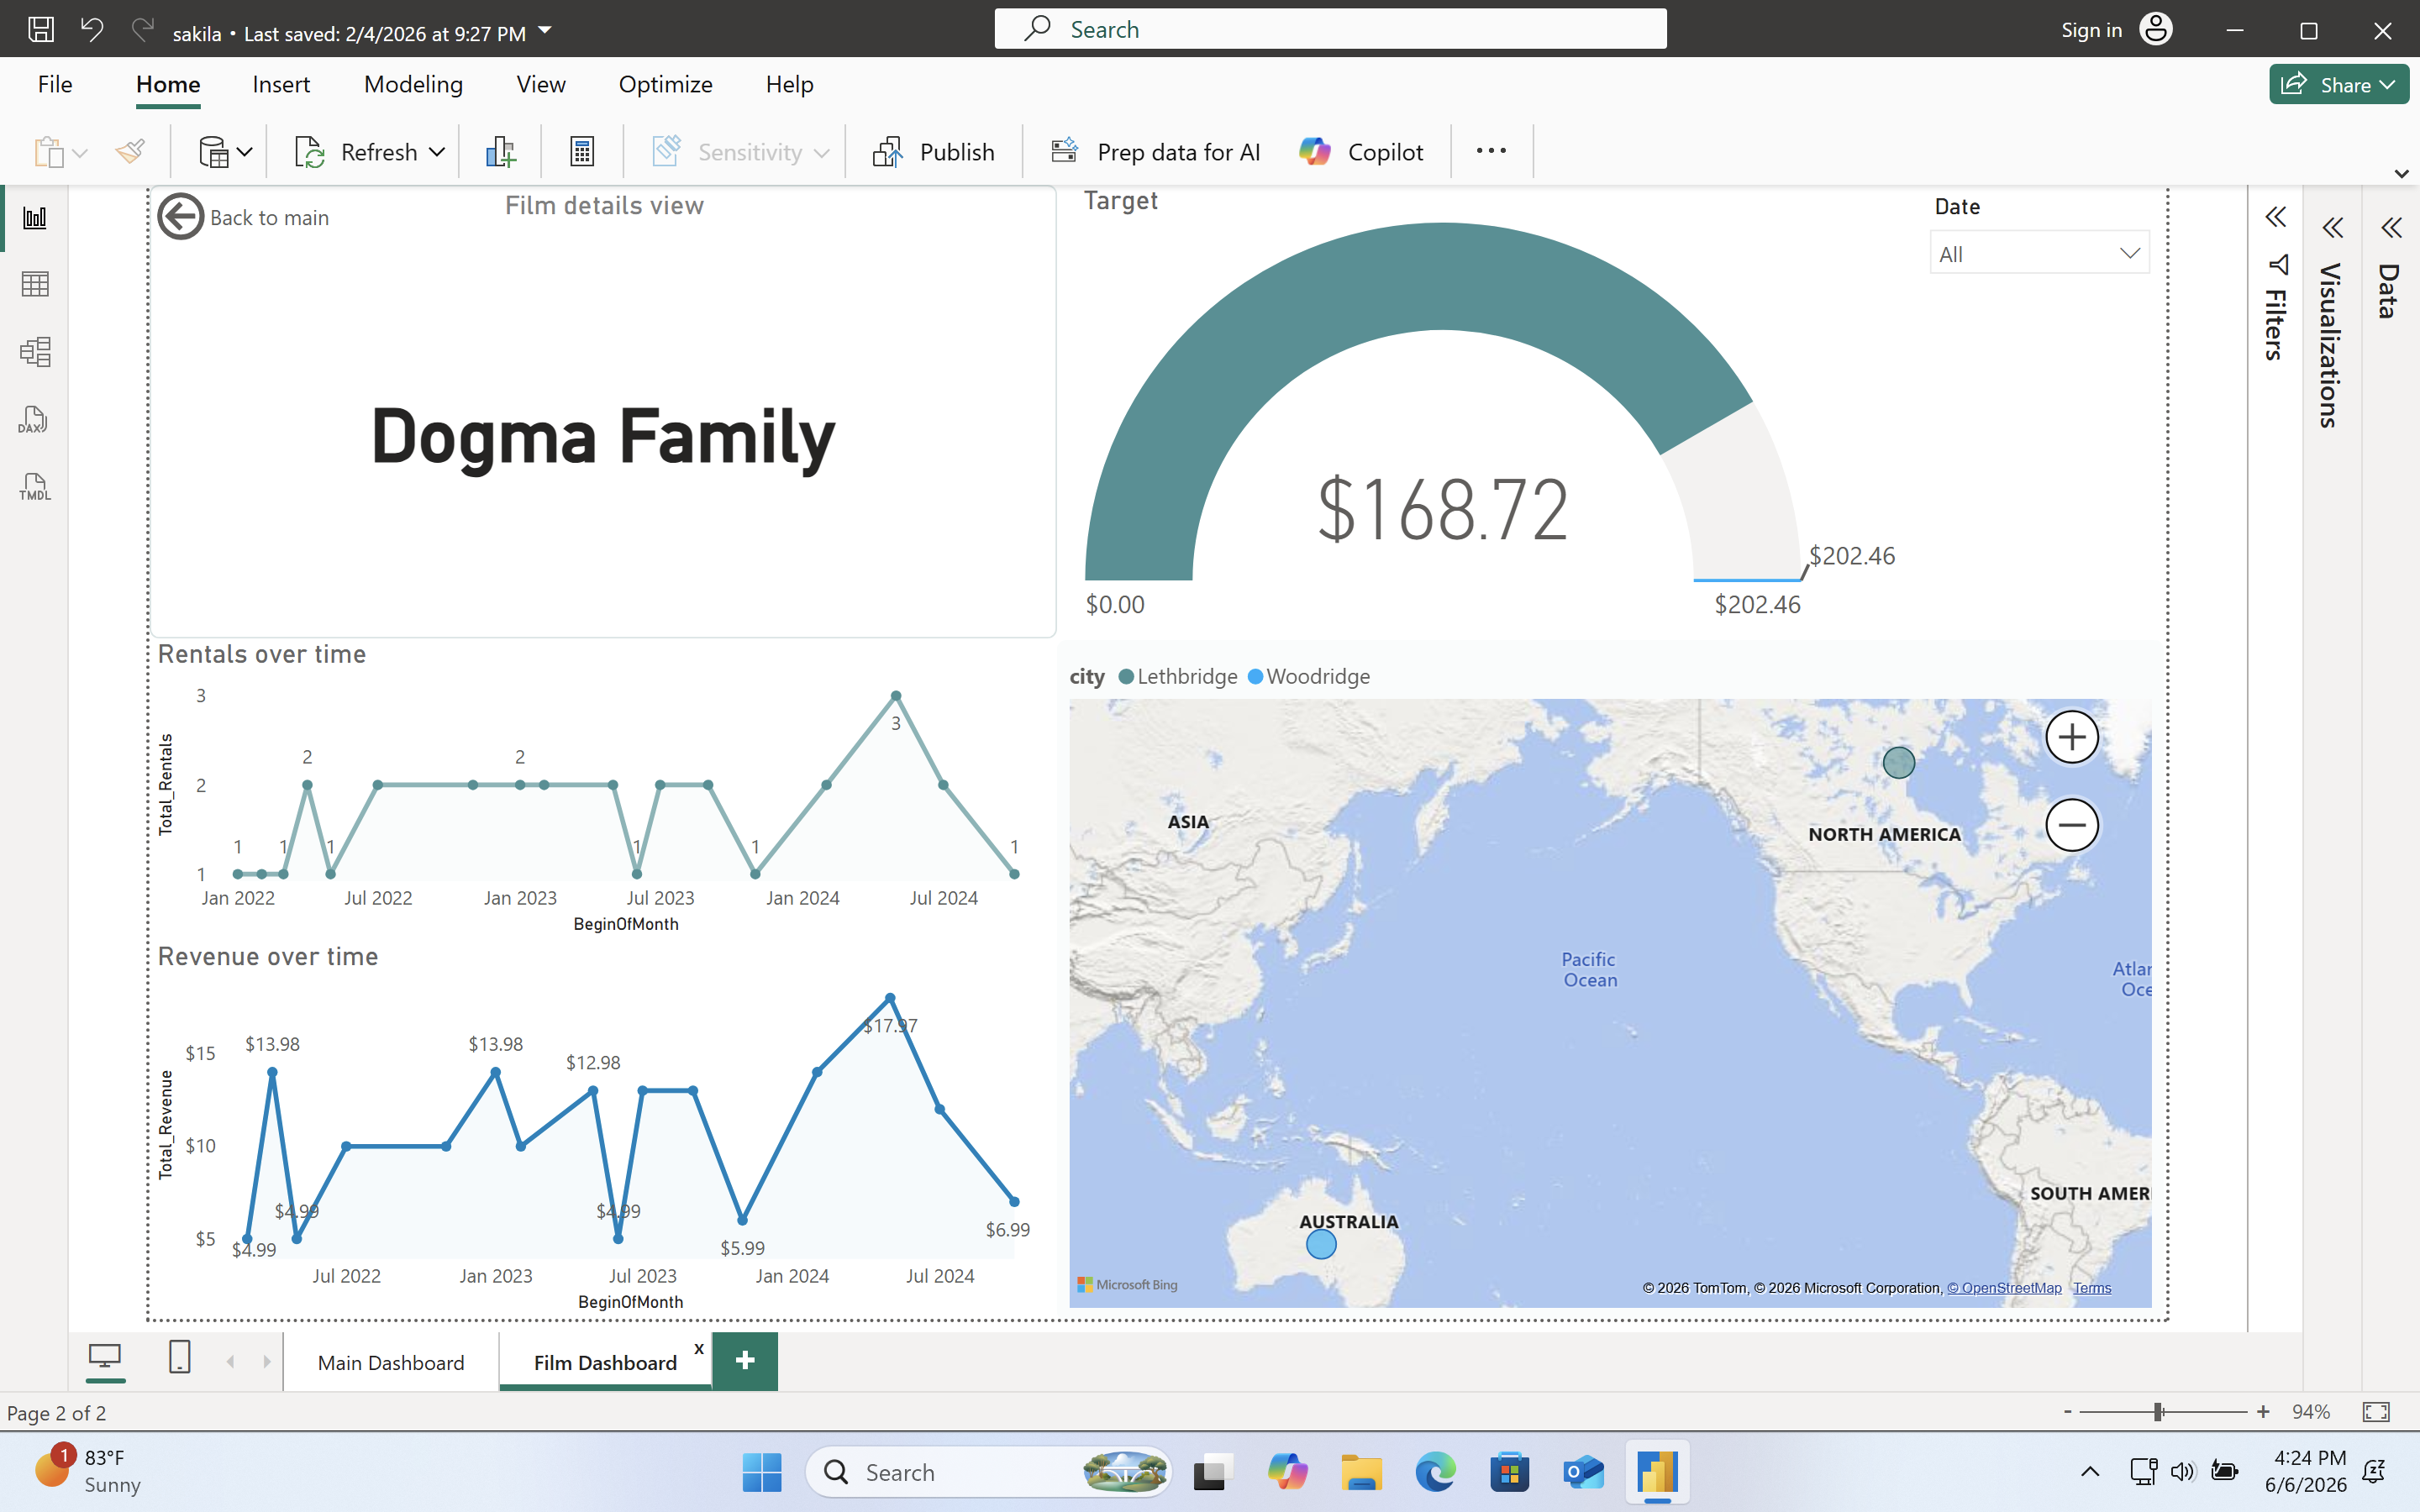

What the dashboard file says about the page in this screenshot:
{"tool":"powerbi","page":{"name":"Film Dashboard","canvas":[1280,720],"ordinal":1},"visuals":[{"type":"card","title":"Film details view","fields":{"Values":["Min(dim_film.title)"]},"box":[0,0,575.9,288],"z":0},{"type":"lineChart","title":"Revenue over time","fields":{"Y":["Mesures.Total_Revenue"],"Category":["dim_date.BeginOfMonth"]},"box":[0,480,576,240],"z":1000},{"type":"gauge","title":"Target","fields":{"TargetValue":["Mesures.Revenue_Target"],"MaxValue":["Mesures.Revenue_Target"],"Y":["Mesures.Total_Revenue"]},"box":[587.9,0,531.9,287.7],"z":2000},{"type":"map","fields":{"Size":["Mesures.Total_Revenue"],"Category":["dim_store.country"],"Series":["dim_store.city"]},"box":[575.5,287.7,704.5,433.9],"z":3000},{"type":"lineChart","title":"Rentals over time","fields":{"Y":["Mesures.Total_Rentals"],"Category":["dim_date.BeginOfMonth"]},"box":[0,288,576,192],"z":4000},{"type":"actionButton","box":[0,0,100,40],"z":5000},{"type":"slicer","fields":{"Values":["dim_date.YearMonth"]},"box":[1120.2,0,159.8,144],"z":6000},{"type":"actionButton","box":[0,0,116.2,39.6],"z":7000}]}

Visuals, with their boxes on the page's 1280x720 design canvas (x1, y1, x2, y2). These are canvas units, not pixel positions in the 2420x1512 screenshot, which may show the page scaled, cropped or inside an application window:
"Film details view" card: crop(0, 0, 576, 288)
"Revenue over time" lineChart: crop(0, 480, 576, 720)
"Target" gauge: crop(588, 0, 1120, 288)
map - Mesures.Total_Revenue x dim_store.country: crop(576, 288, 1280, 722)
"Rentals over time" lineChart: crop(0, 288, 576, 480)
actionButton: crop(0, 0, 100, 40)
slicer - dim_date.YearMonth: crop(1120, 0, 1280, 144)
actionButton: crop(0, 0, 116, 40)
